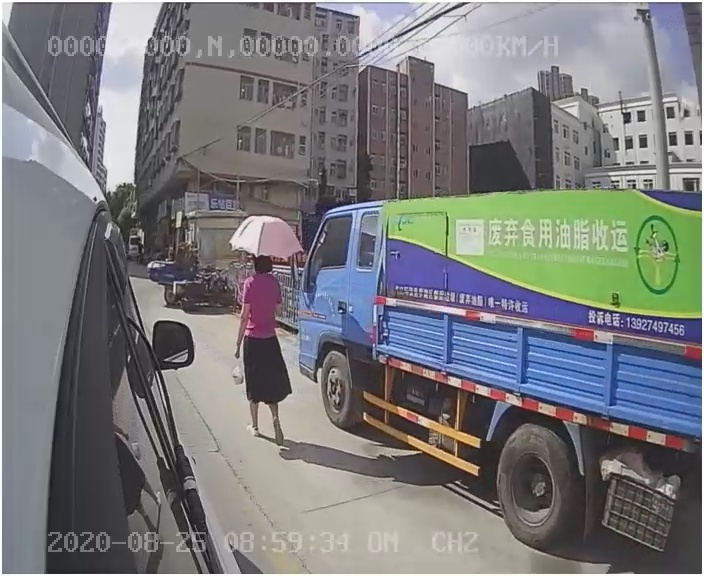person: (223, 253, 309, 459)
